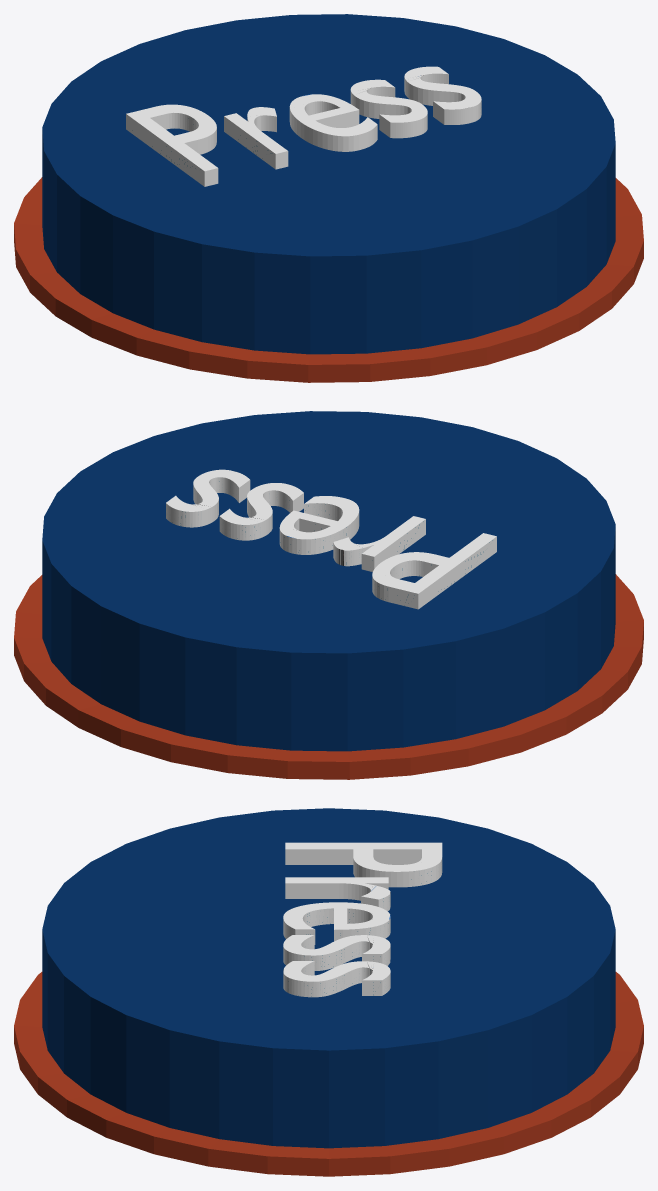
The model's file is BotonRojo.fbx.
3 views of the same model, one above another, from view 1: azimuth 30°, elevation 25°; view 2: azimuth 150°, elevation 25°; view 3: azimuth 270°, elevation 25° (orthographic).
Visible parts, largest first — view 1: Cylinder.001; view 2: Cylinder.001; view 3: Cylinder.001.
Boxes of the visible parts, left/top/right/bottom form: Cylinder.001: left=14, top=14, right=643, bottom=382; Cylinder.001: left=14, top=411, right=643, bottom=779; Cylinder.001: left=14, top=808, right=643, bottom=1176.
Size of the model in its own units: 100 by 22.73 by 100.
Materials: 1 (1 with a texture image).
